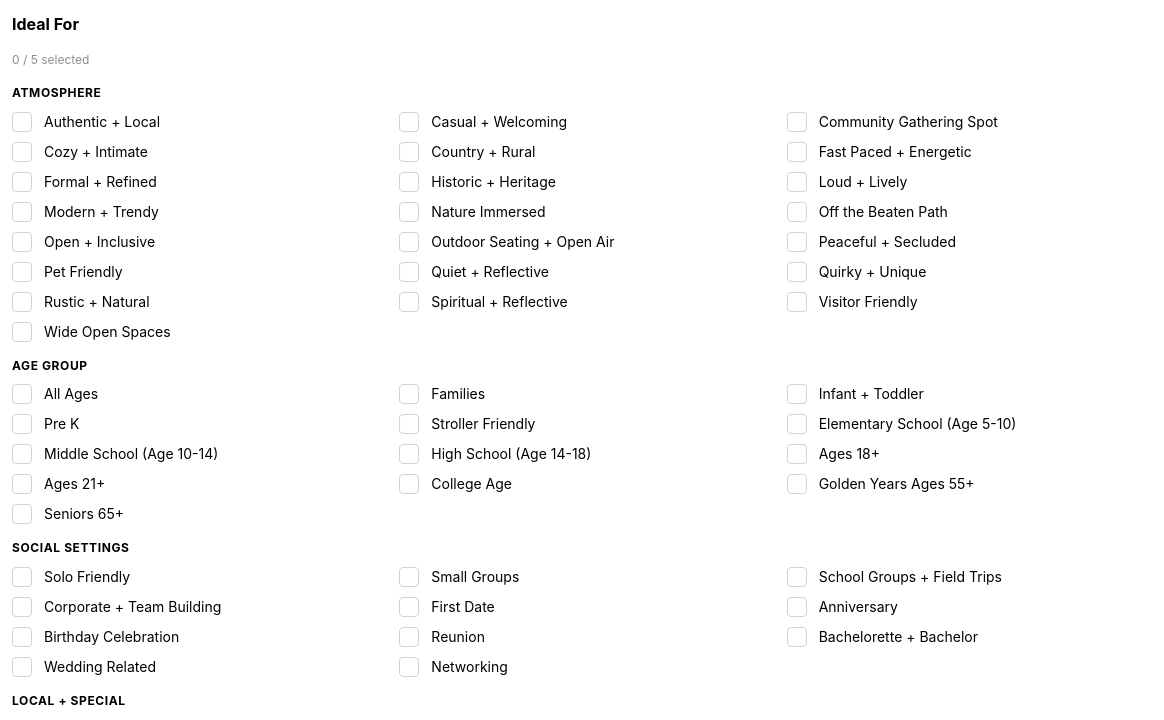
Test case: IdealForGrouped (Issue #43 unified checkbox grid) › allows unchecking once cap is reached (disabled only applies to unchecked options)
Click the checkbox labelled "Authentic + Local".
click(22, 122)  # box [12, 112, 32, 132]
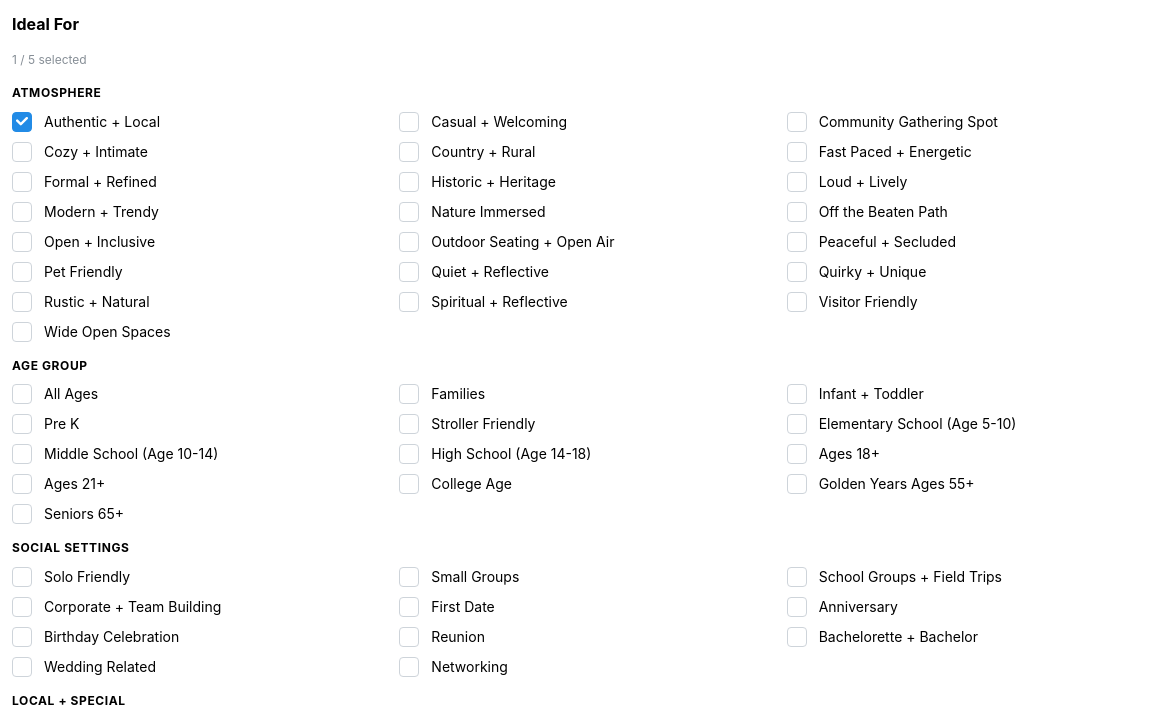
Click the checkbox labelled "Casual + Welcoming".
click(409, 122)  # box [399, 112, 419, 132]
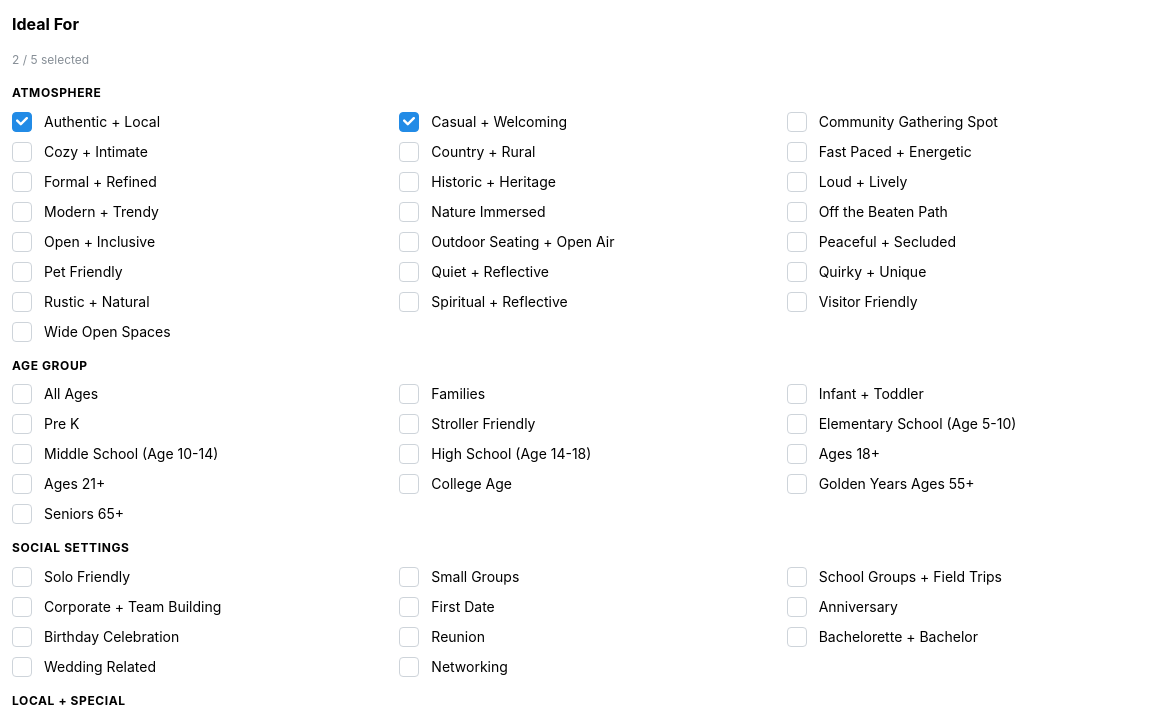
Click the checkbox labelled "Community Gathering Spot".
click(797, 122)  # box [787, 112, 807, 132]
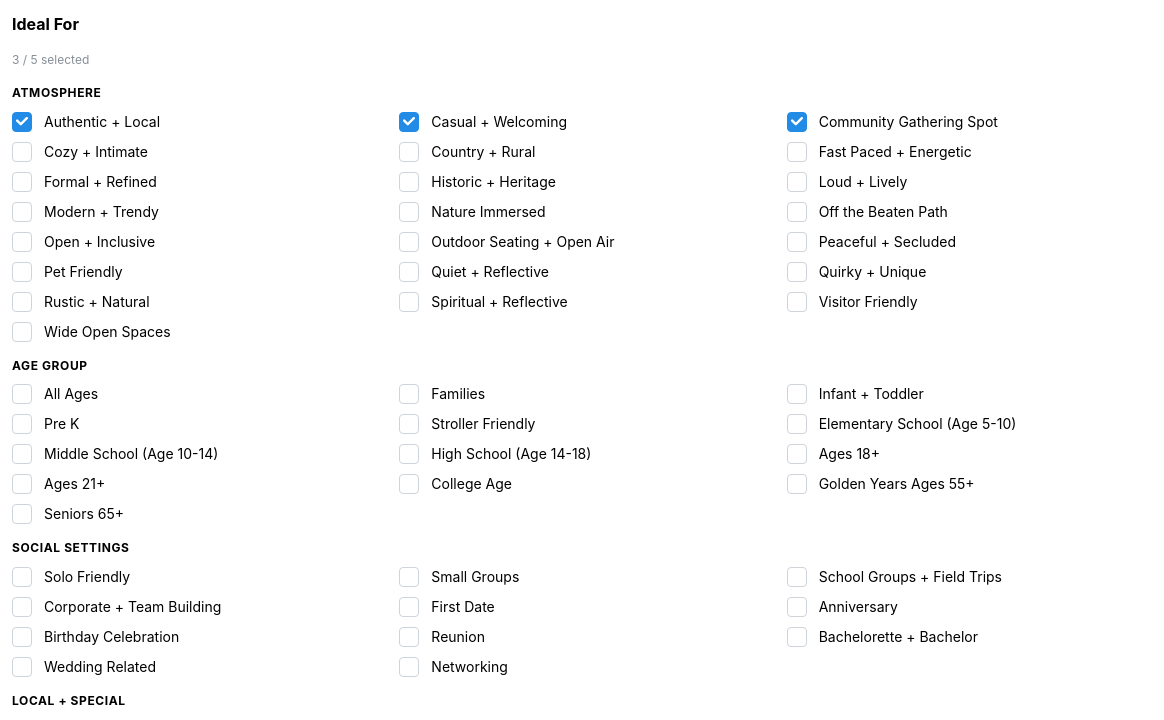
Click the checkbox labelled "Cozy + Intimate".
click(22, 152)  # box [12, 142, 32, 162]
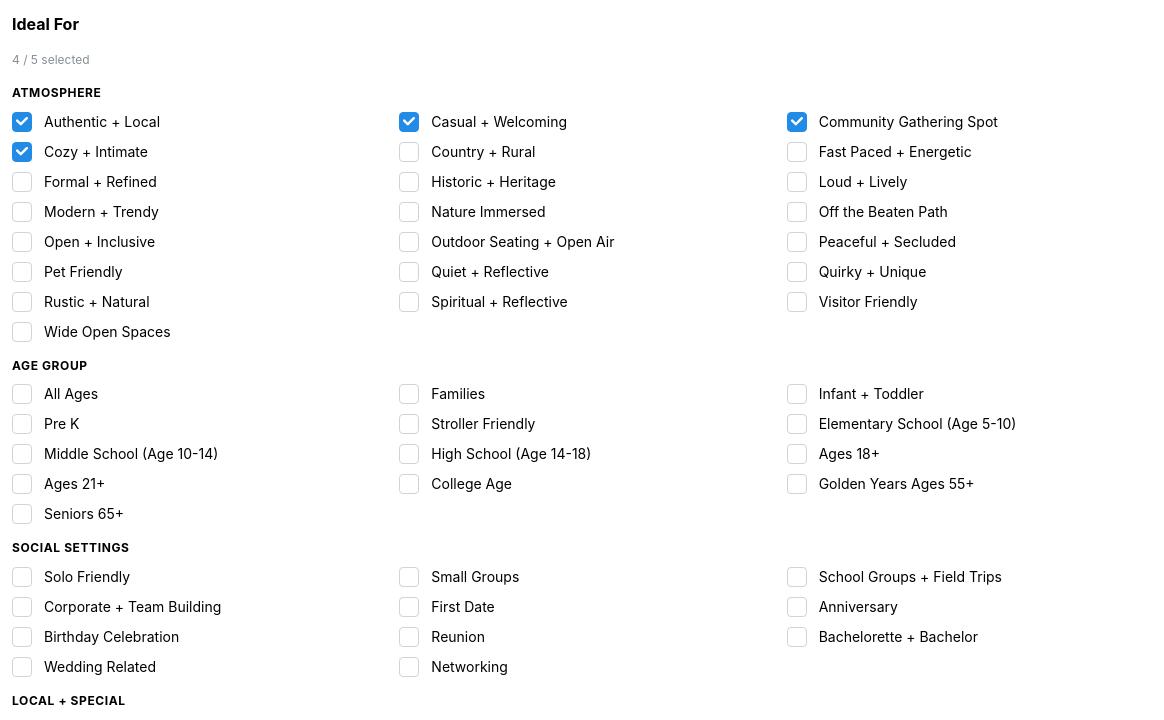
Click the checkbox labelled "Country + Rural".
click(409, 152)  # box [399, 142, 419, 162]
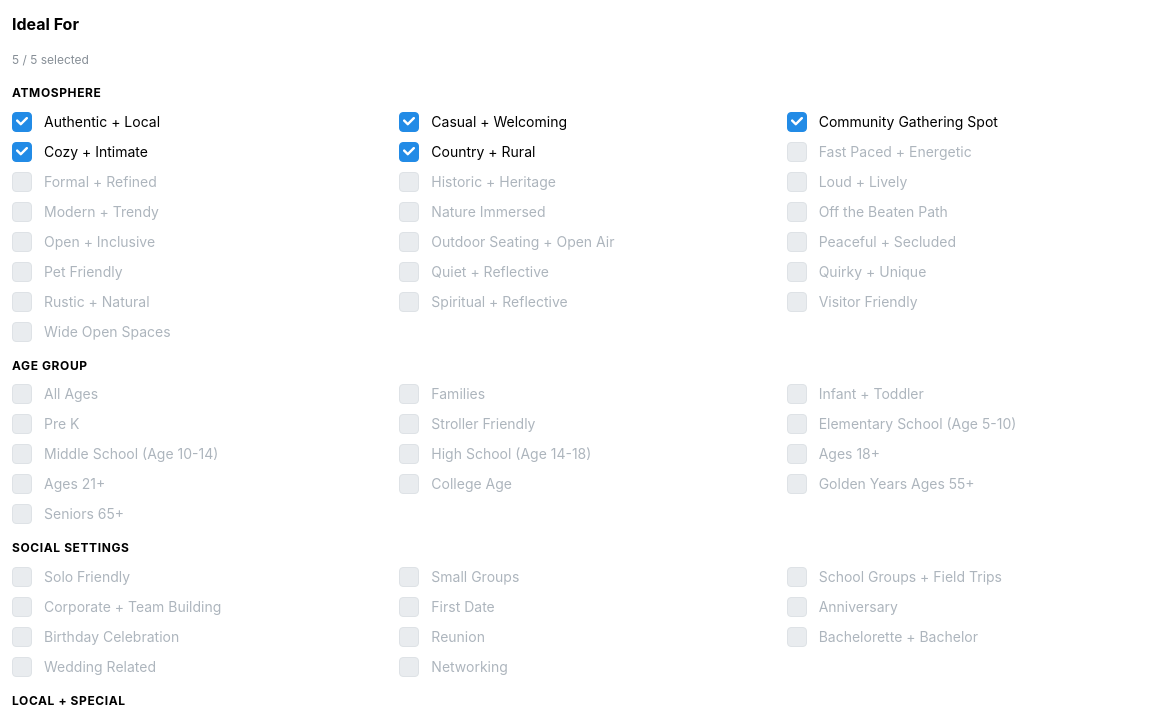
Expected: the text with test id "ideal-for-cap-counter" reads "5 / 5 selected", [12, 52, 89, 67]
Click the checkbox labelled "Authentic + Local".
click(22, 122)  # box [12, 112, 32, 132]
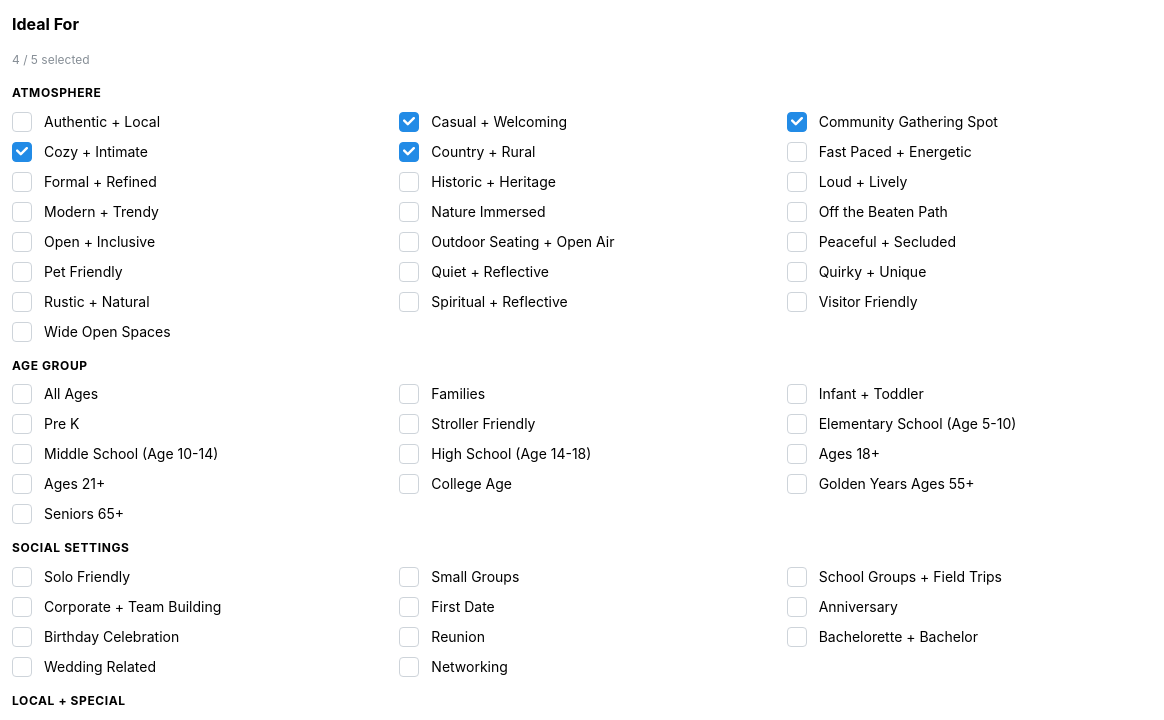
Expected: the text with test id "ideal-for-cap-counter" reads "4 / 5 selected", [12, 52, 90, 67]
